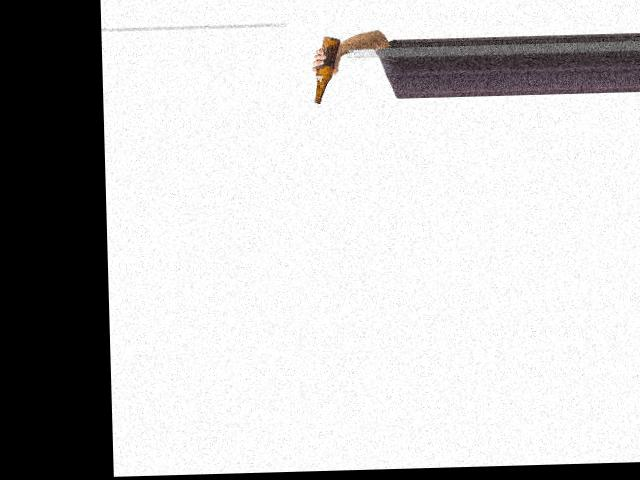beer: (313, 36, 343, 103)
